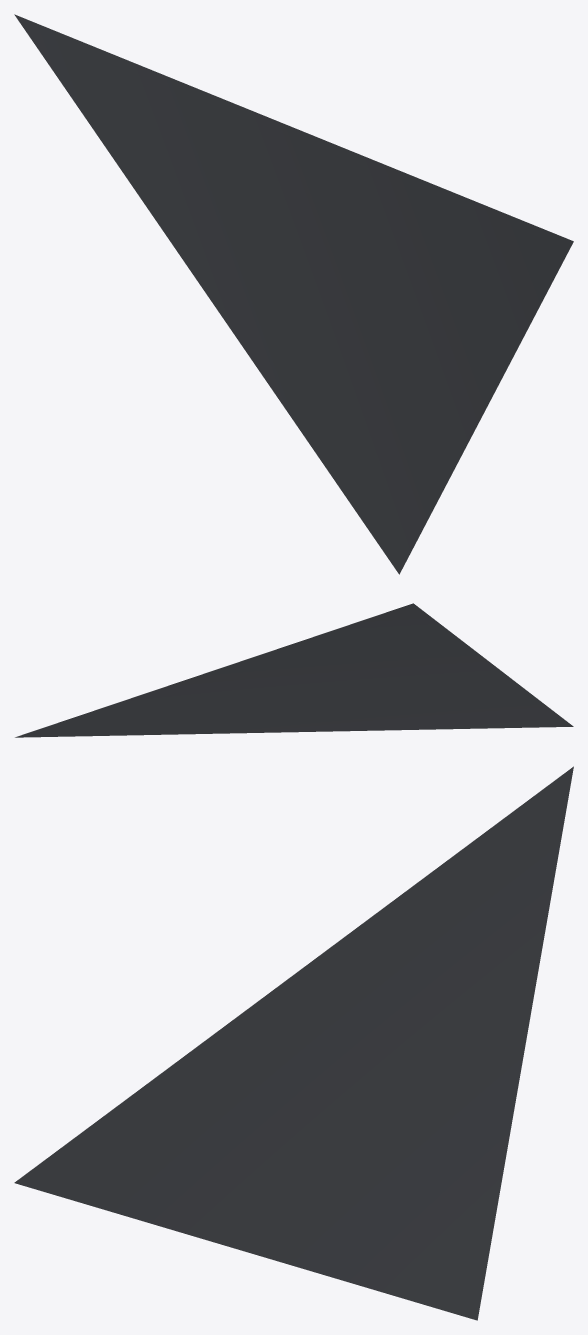
Rendered from SM_Prop_Candles_04_Particle.fbx.
The picture shows the model from 3 angles, top to bottom: view 1: azimuth 30°, elevation 25°; view 2: azimuth 150°, elevation 25°; view 3: azimuth 270°, elevation 25°; orthographic projection. The views are drawn at different scales.
Parts seen in each view (by area): view 1: SM_Prop_Candles_04_Particle; view 2: SM_Prop_Candles_04_Particle; view 3: SM_Prop_Candles_04_Particle.
Part boxes in pixels (x1,y1,x2,y2): SM_Prop_Candles_04_Particle: (14, 14, 573, 574); SM_Prop_Candles_04_Particle: (15, 603, 573, 737); SM_Prop_Candles_04_Particle: (14, 766, 573, 1320).
Size of the model in its own units: 0.1228 by 0.0864 by 0.1188.
